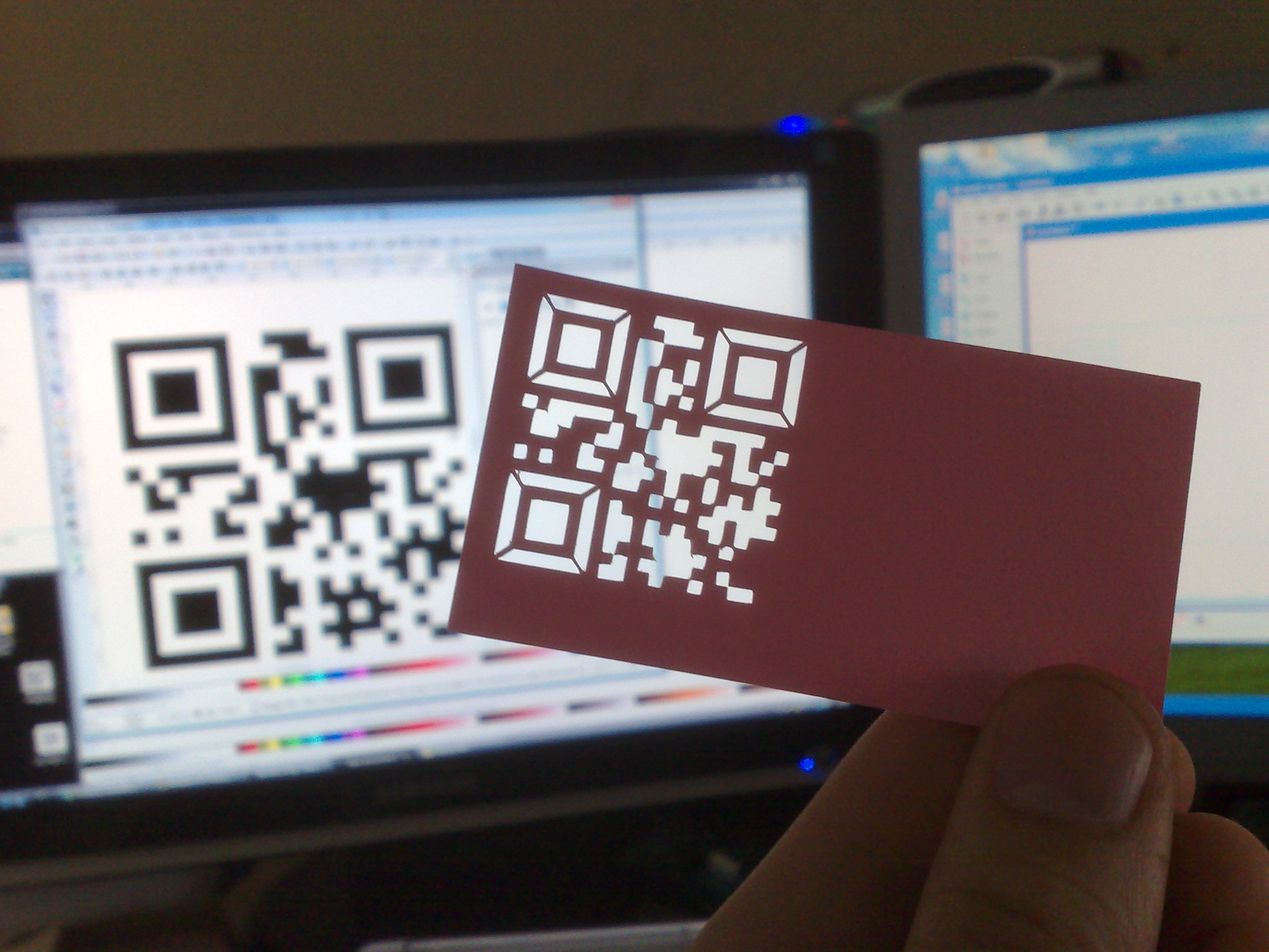QR-CODE: (115, 325, 461, 669), (491, 291, 808, 607)
